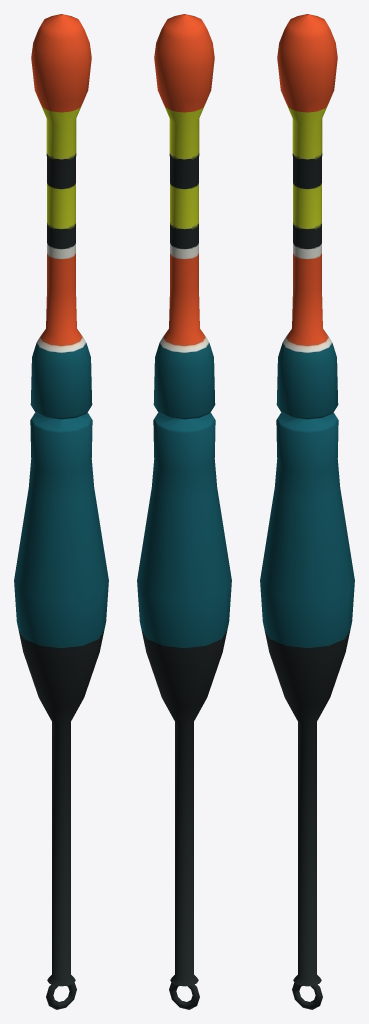
The picture shows the model from 3 angles, left to right: view 1: azimuth 30°, elevation 25°; view 2: azimuth 150°, elevation 25°; view 3: azimuth 330°, elevation 25°; orthographic projection.
Visible parts, largest first — view 1: F34_Float; view 2: F34_Float; view 3: F34_Float.
Part boxes in pixels (x1=…): F34_Float: x1=14, y1=14, x2=108, y2=1009; F34_Float: x1=137, y1=14, x2=231, y2=1009; F34_Float: x1=260, y1=14, x2=354, y2=1009.
Bounding box in the file's own units: 0.0208 × 0.24 × 0.0208.
Materials: 1 (1 with a texture image).
